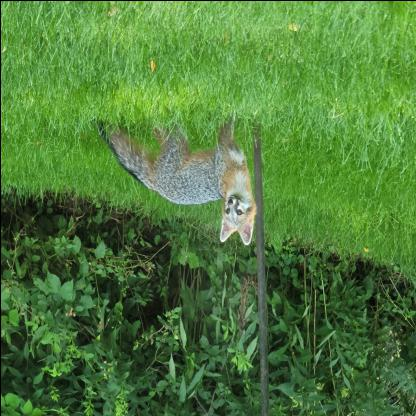zorro: (92, 106, 258, 250)
